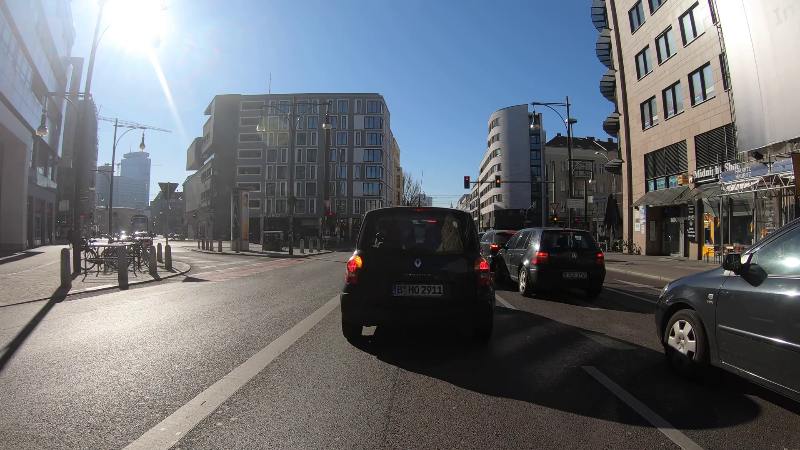Plate: (388, 282, 448, 297), (559, 270, 590, 280)
